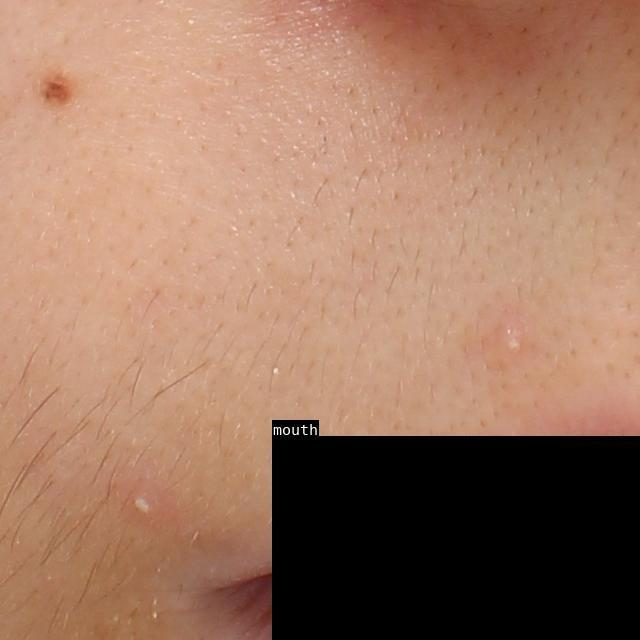nevus: (36, 64, 82, 112)
pustule: (125, 482, 180, 526), (498, 328, 520, 357)
